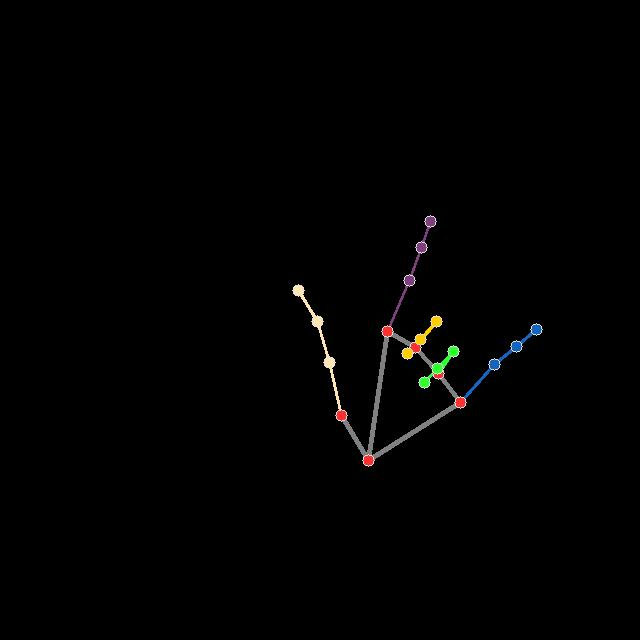spiderman: (292, 215, 543, 469)
